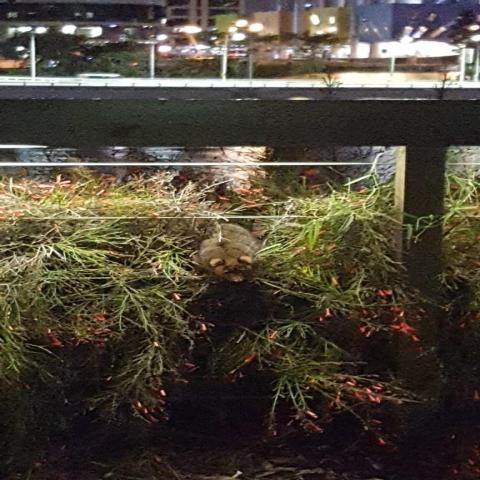small_animal: (194, 220, 263, 283)
